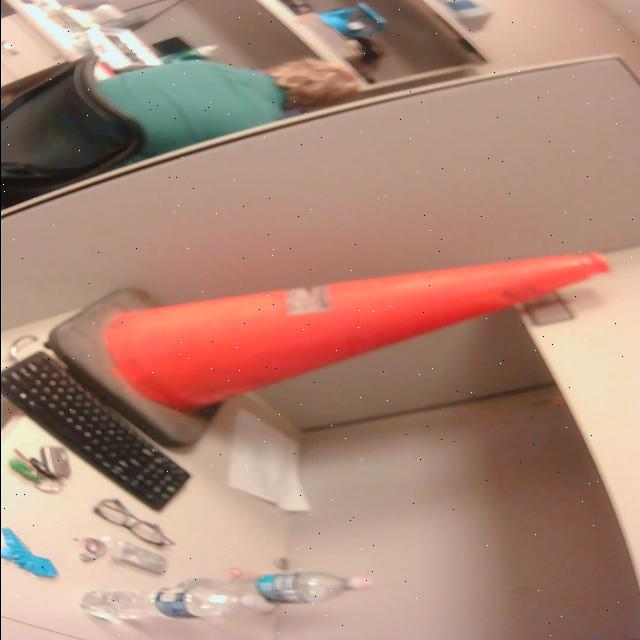traffic cone: (41, 249, 619, 453)
